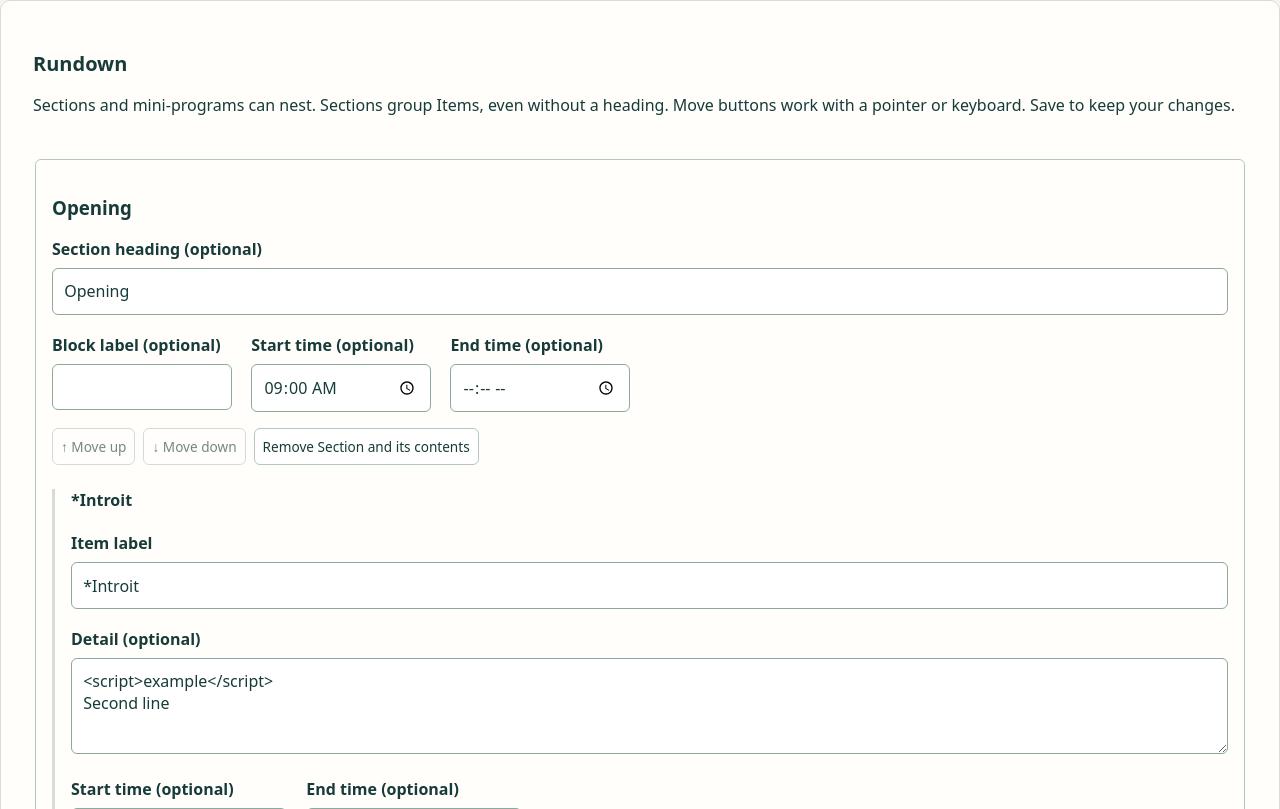
keeps entries on a network error and allows retry
The image size is (1280, 809).
Replace the text in the field labelled "Item label" with "Edited prayer": (650, 586) [71,562,1228,609]
(page scrolled)
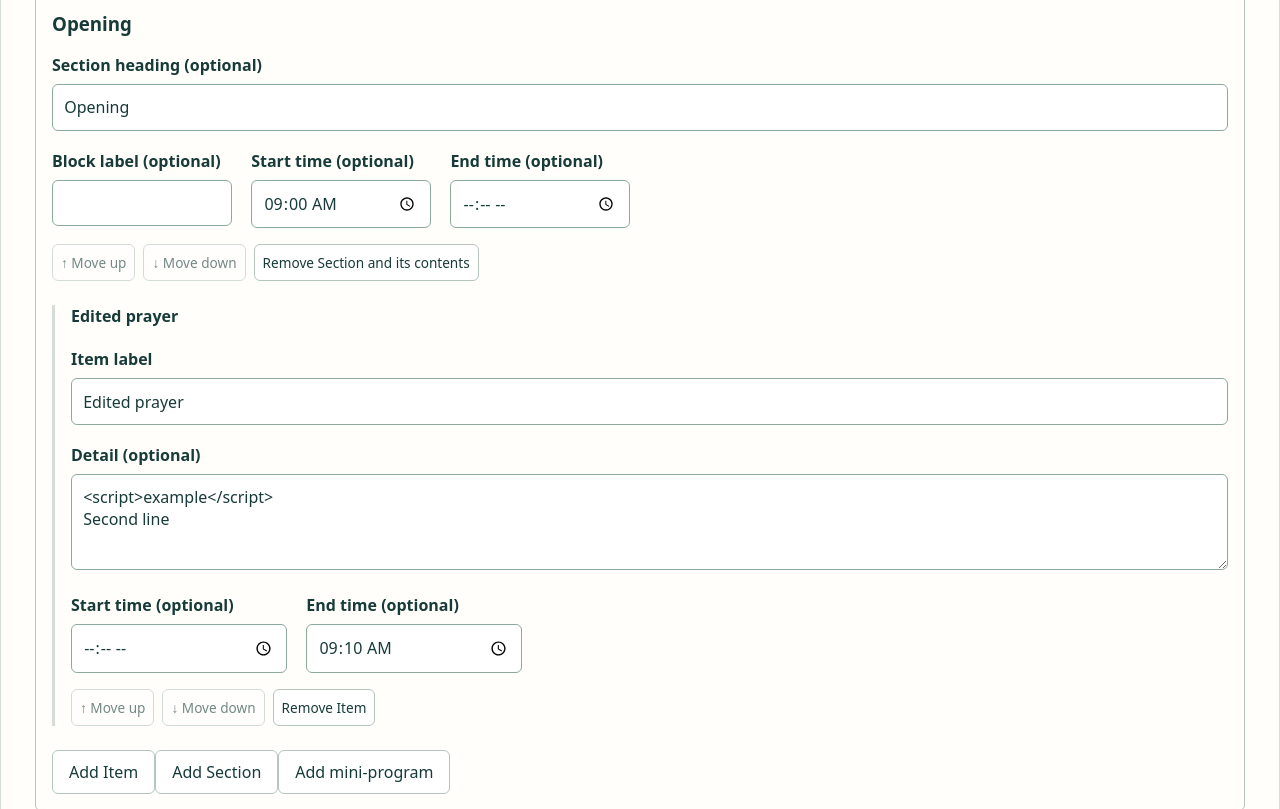
Submit the form named "Rundown"
(page scrolled)
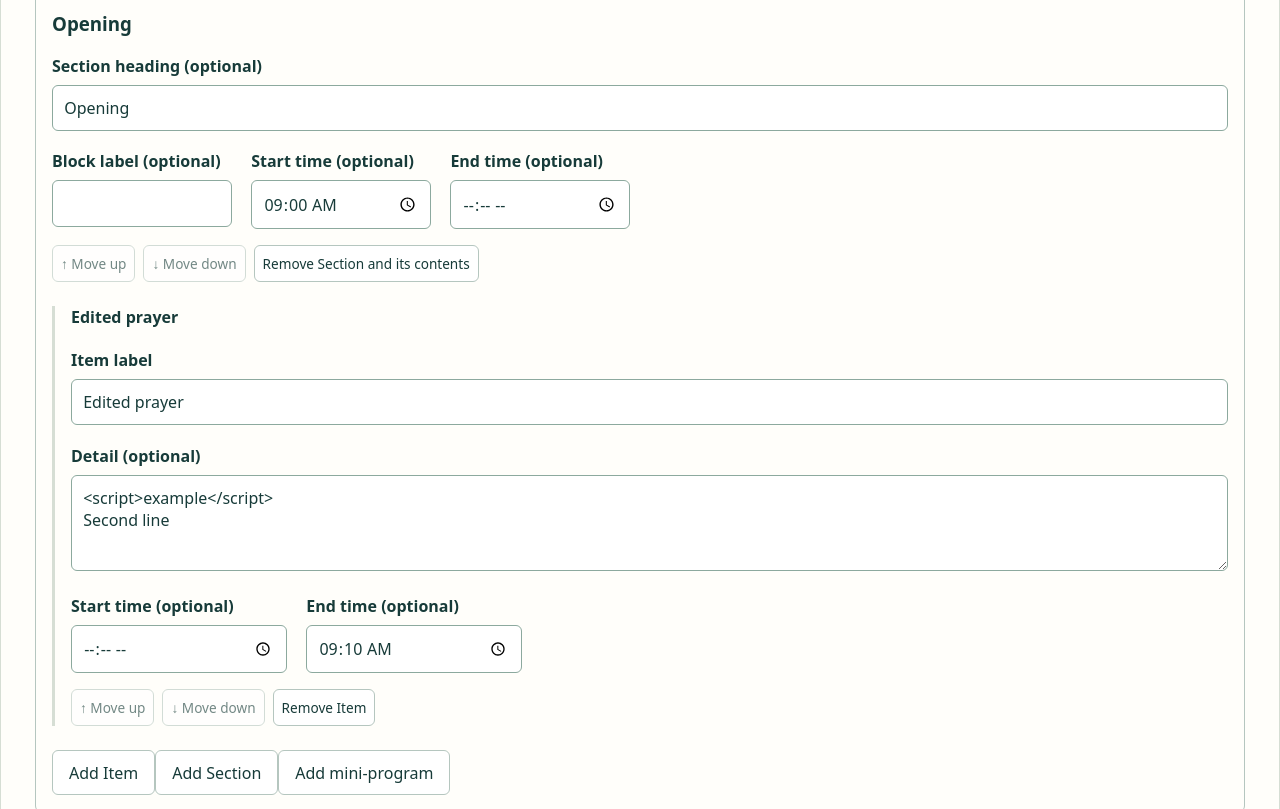
Submit the form named "Rundown"
(page scrolled)
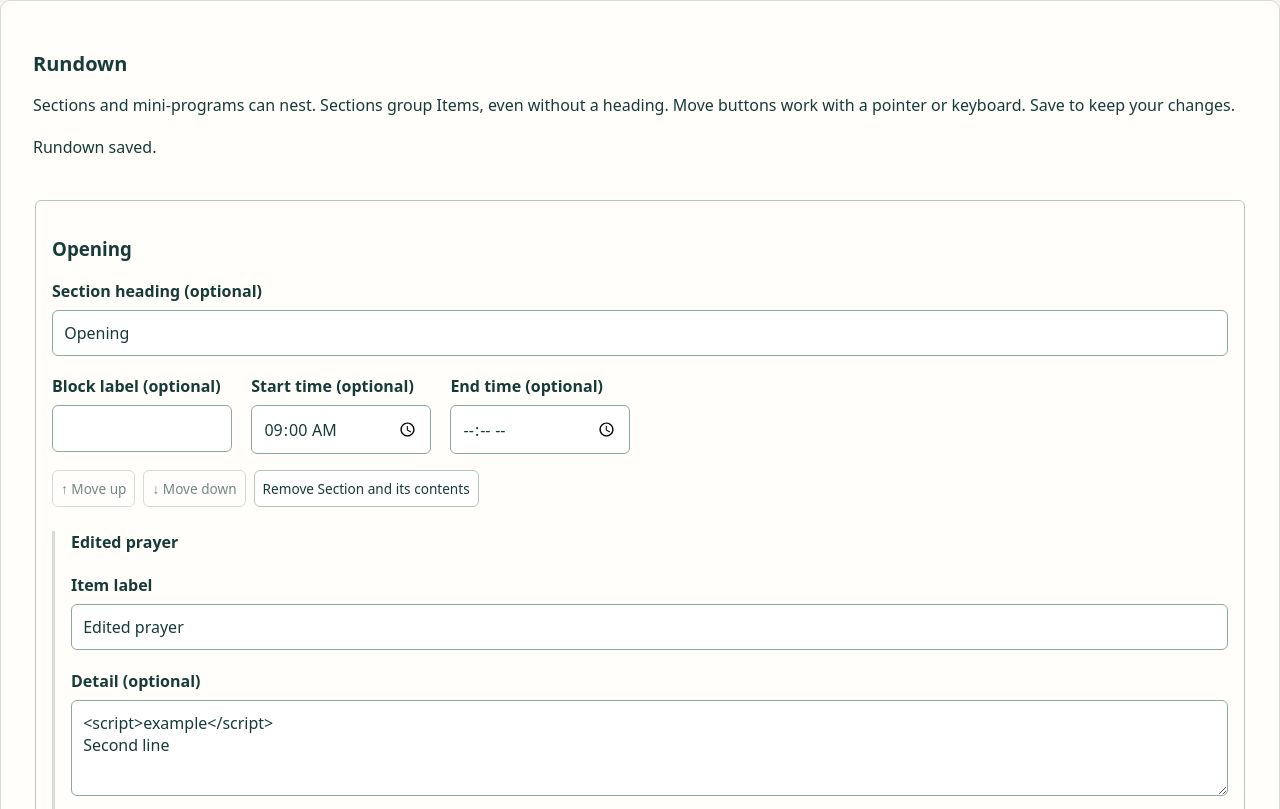
Expected: the text "Rundown saved." is shown, [33,136,156,158]
